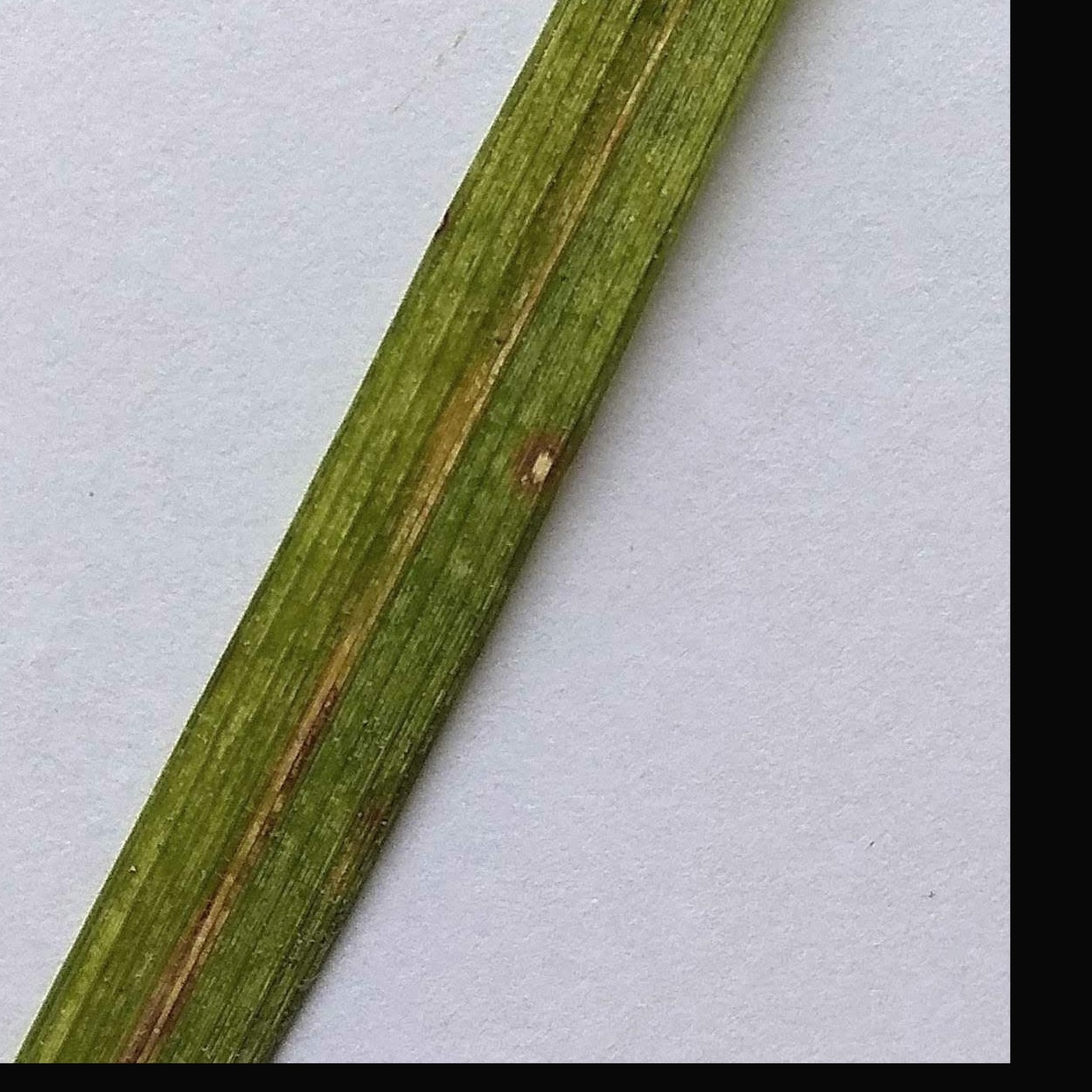Brown_Spot: (495, 399, 577, 499)
